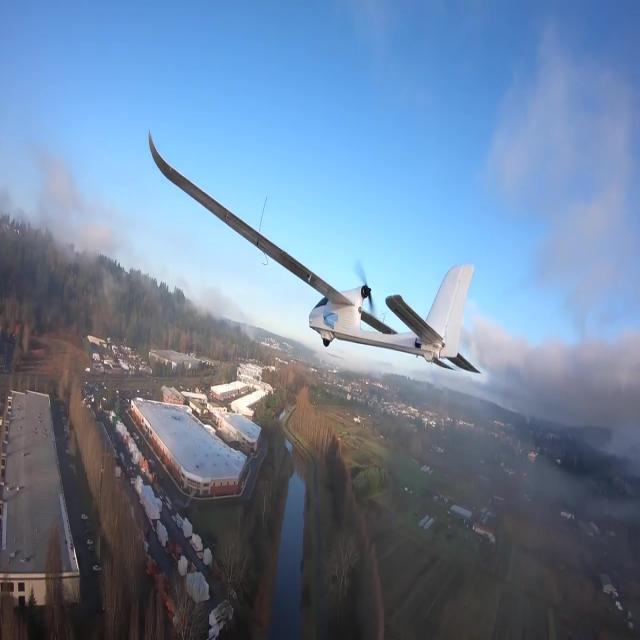iha: (148, 128, 484, 376)
